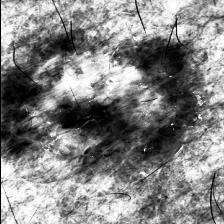Potentially Malignant Skin Tumors: (2, 33, 200, 162)
